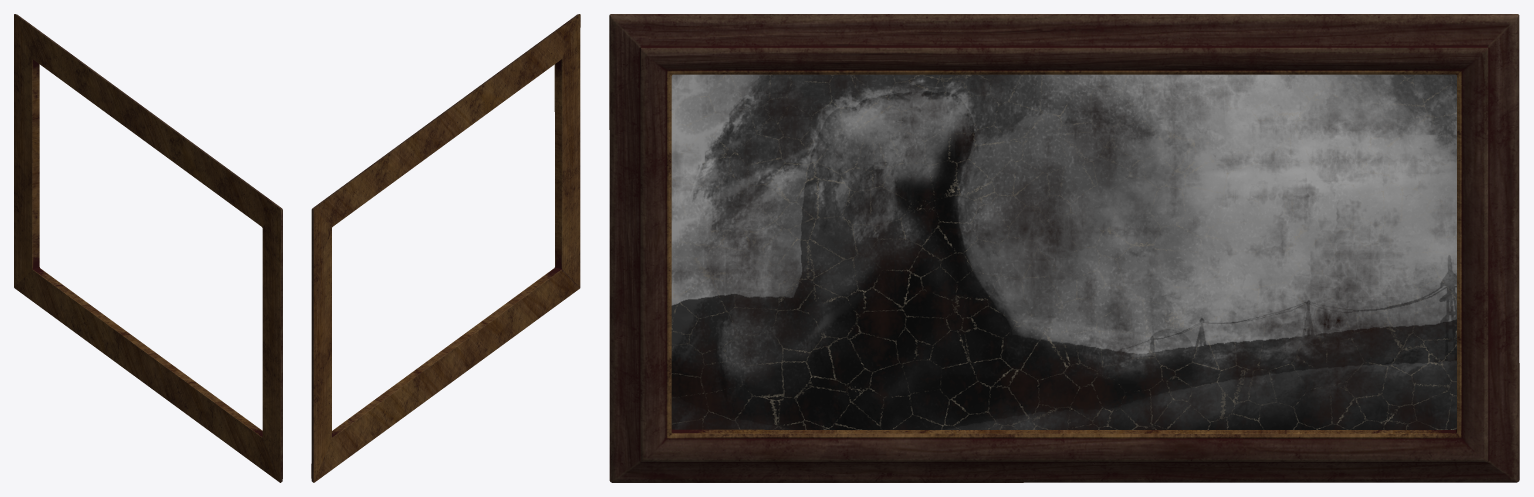
The model's file is framed_painting.glb.
3 renders of one model, left to right at view 1: azimuth 30°, elevation 25°; view 2: azimuth 150°, elevation 25°; view 3: azimuth 270°, elevation 25°, orthographic. The views are drawn at different scales.
Visible parts, largest first — view 1: Frame; view 2: Frame; view 3: Image, Frame.
Boxes of the visible parts, left/top/right/bottom form: Frame: left=14, top=14, right=282, bottom=482; Frame: left=311, top=14, right=580, bottom=482; Image: left=671, top=74, right=1456, bottom=429; Frame: left=609, top=14, right=1519, bottom=482.
Bounding box in the file's own units: 0.0129 × 0.3416 × 0.6019.
Materials: 2 (2 with a texture image).
